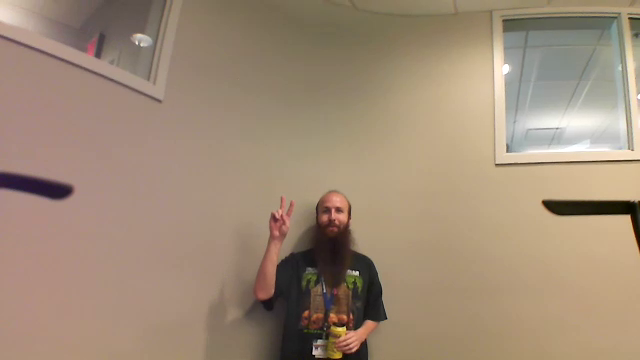peace: (264, 191, 299, 242)
